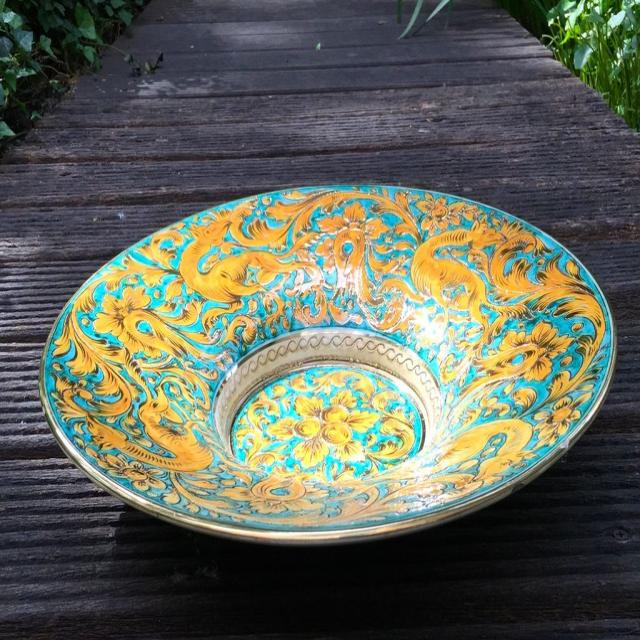non-organic waste: (32, 177, 632, 565)
